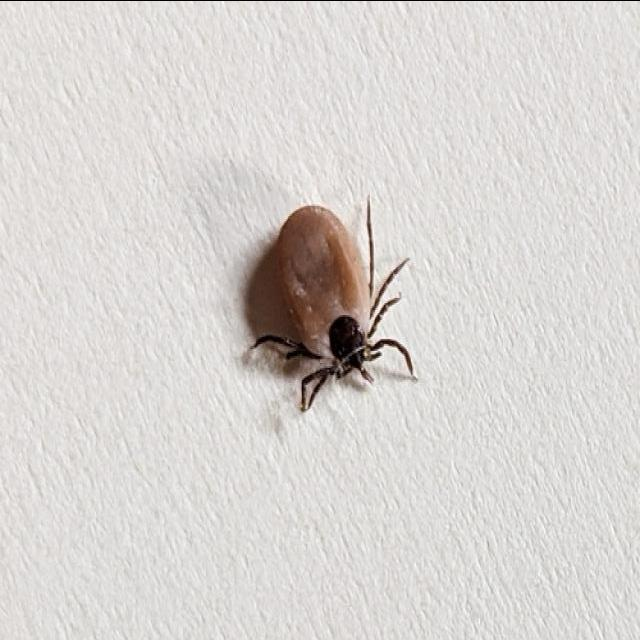Ixodes Ricinus-F-Fed: (242, 196, 411, 411)
